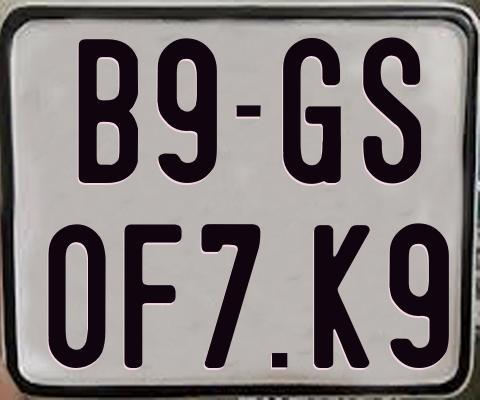0: (47, 223, 110, 371)
7: (200, 221, 261, 366)
9: (387, 221, 451, 369), (156, 35, 218, 180)
B: (79, 39, 138, 189)
F: (122, 222, 183, 366)
G: (280, 35, 343, 184)
K: (313, 223, 375, 368)
S: (362, 37, 420, 186)
